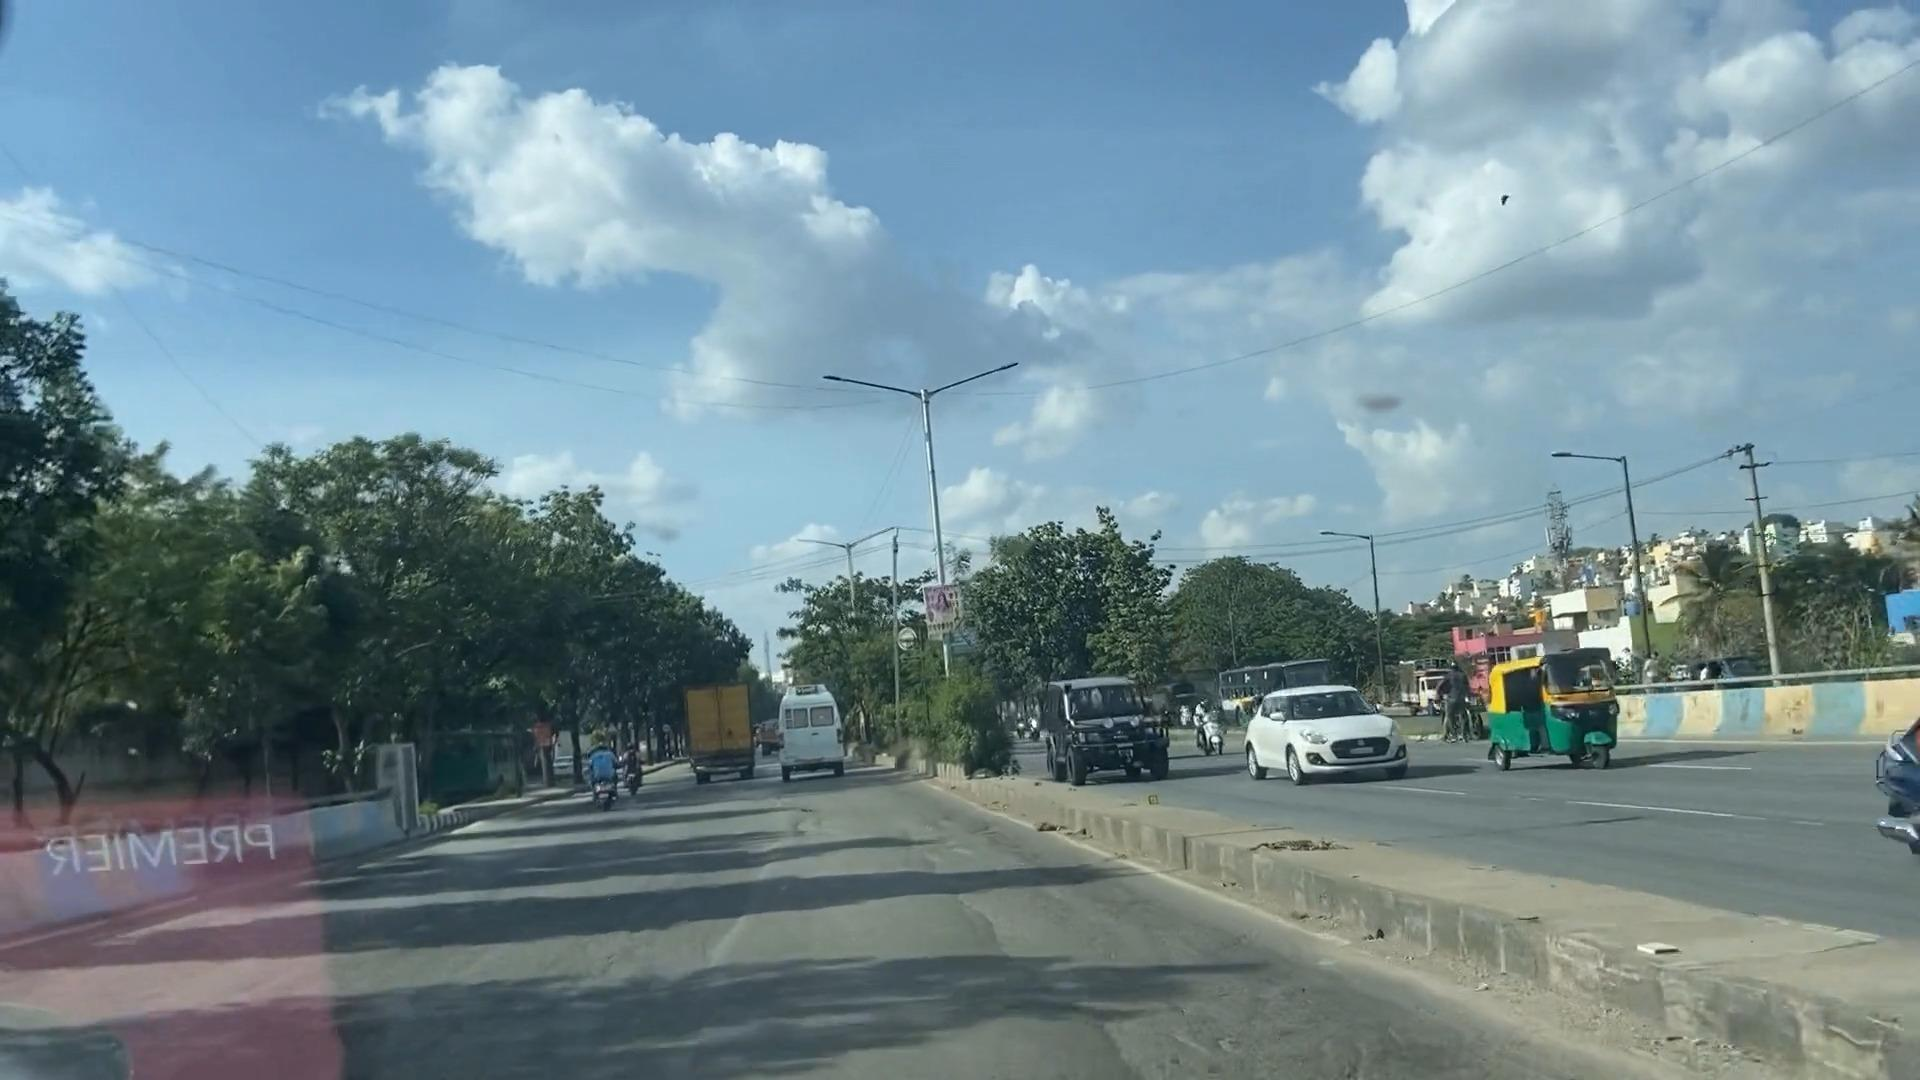HMV: (769, 691, 853, 783), (679, 691, 760, 783)
LMV: (560, 735, 622, 812)
RoadDamages: (1133, 936, 1441, 1080), (258, 965, 617, 1080), (786, 806, 893, 847)
